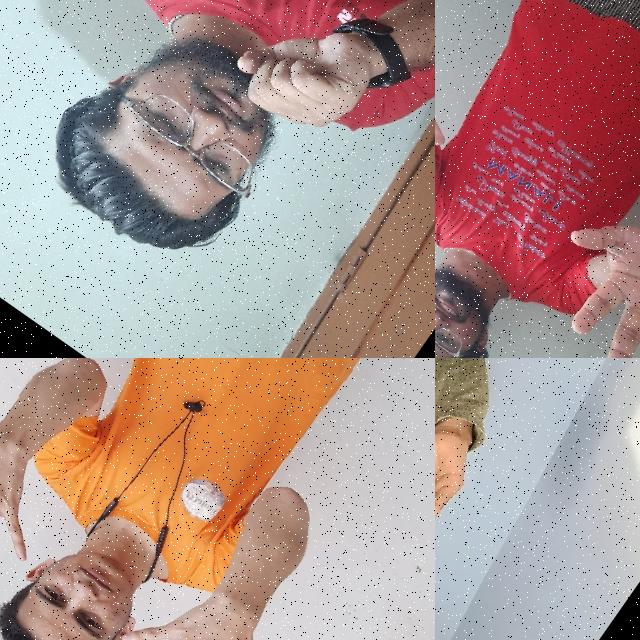Fist Mouth: (26, 0, 414, 319)
Moutza: (509, 180, 640, 358), (89, 547, 307, 640), (0, 398, 84, 604)
Okay: (435, 394, 497, 558)
